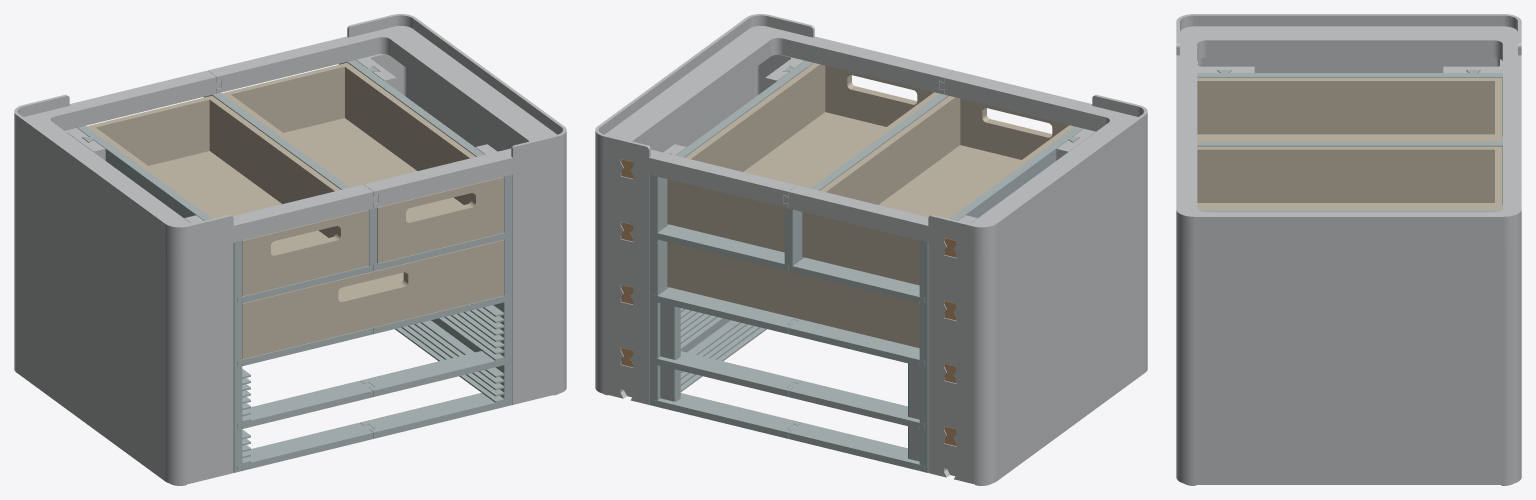
The model's file is stacknest-no-ht.glb.
The picture shows the model from 3 angles, left to right: view 1: azimuth 30°, elevation 25°; view 2: azimuth 150°, elevation 25°; view 3: azimuth 270°, elevation 25°; orthographic projection. The views are drawn at different scales.
Visible parts, largest first — view 1: 2-drawer-layer__drawer_2, 2-drawer-layer__drawer_1, device-top__top_2, device-top__top_1, 1-drawer-layer__drawer_half_1, 2-drawer-layer__end_left_1, 1-drawer-layer__end_left_1, 8-slot-plate-layer__end_left, 5-slot-plate-layer__end_left, 2-drawer-layer__end_right_1, 8-slot-plate-layer__end_right, 1-drawer-layer__end_right_1 (+17 smaller); view 2: 2-drawer-layer__drawer_2, 2-drawer-layer__drawer_1, device-top__top_2, device-top__top_1, 2-drawer-layer__end_left_1, 1-drawer-layer__end_left_1, 8-slot-plate-layer__end_left, 1-drawer-layer__drawer_half_2, 5-slot-plate-layer__end_left, 2-drawer-layer__end_right_1, 8-slot-plate-layer__end_right, 1-drawer-layer__end_right_1 (+18 smaller); view 3: 1-drawer-layer__end_right_1, 2-drawer-layer__end_right_1, 8-slot-plate-layer__end_right, 2-drawer-layer__drawer_2, 2-drawer-layer__drawer_1, device-top__top_1, 5-slot-plate-layer__end_right, device-top__top_2, 2-drawer-layer__end_left_1, 2-drawer-layer__divider_1, 2-drawer-layer__side_left, 2-drawer-layer__side_right.
Boxes of the visible parts, left/top/right/bottom form: 2-drawer-layer__drawer_2: left=221, top=62, right=503, bottom=263; 2-drawer-layer__drawer_1: left=86, top=95, right=368, bottom=296; device-top__top_2: left=208, top=14, right=566, bottom=208; device-top__top_1: left=14, top=70, right=378, bottom=254; 1-drawer-layer__drawer_half_1: left=242, top=239, right=503, bottom=359; 2-drawer-layer__end_left_1: left=14, top=128, right=233, bottom=317; 1-drawer-layer__end_left_1: left=14, top=203, right=233, bottom=380; 8-slot-plate-layer__end_left: left=14, top=265, right=233, bottom=442; 5-slot-plate-layer__end_left: left=14, top=328, right=233, bottom=485; 2-drawer-layer__end_right_1: left=356, top=54, right=566, bottom=237; 8-slot-plate-layer__end_right: left=512, top=284, right=566, bottom=362; 1-drawer-layer__end_right_1: left=512, top=221, right=566, bottom=299; 2-drawer-layer__drawer_2: left=667, top=63, right=939, bottom=252; 2-drawer-layer__drawer_1: left=802, top=96, right=1074, bottom=285; device-top__top_2: left=595, top=14, right=953, bottom=208; device-top__top_1: left=783, top=70, right=1147, bottom=254; 2-drawer-layer__end_left_1: left=928, top=129, right=1147, bottom=317; 1-drawer-layer__end_left_1: left=928, top=203, right=1147, bottom=380; 8-slot-plate-layer__end_left: left=928, top=265, right=1147, bottom=442; 1-drawer-layer__drawer_half_2: left=667, top=242, right=919, bottom=348; 5-slot-plate-layer__end_left: left=928, top=328, right=1147, bottom=485; 2-drawer-layer__end_right_1: left=595, top=54, right=804, bottom=237; 8-slot-plate-layer__end_right: left=595, top=284, right=649, bottom=362; 1-drawer-layer__end_right_1: left=595, top=221, right=649, bottom=299; 1-drawer-layer__end_right_1: left=1176, top=304, right=1521, bottom=375; 2-drawer-layer__end_right_1: left=1176, top=238, right=1521, bottom=310; 8-slot-plate-layer__end_right: left=1176, top=369, right=1521, bottom=441; 2-drawer-layer__drawer_2: left=1197, top=146, right=1502, bottom=210; 2-drawer-layer__drawer_1: left=1197, top=78, right=1502, bottom=141; device-top__top_1: left=1176, top=14, right=1521, bottom=126; 5-slot-plate-layer__end_right: left=1176, top=435, right=1521, bottom=485; device-top__top_2: left=1176, top=126, right=1521, bottom=245; 2-drawer-layer__end_left_1: left=1197, top=58, right=1502, bottom=72; 2-drawer-layer__divider_1: left=1197, top=141, right=1502, bottom=204; 2-drawer-layer__side_left: left=1197, top=70, right=1502, bottom=135; 2-drawer-layer__side_right: left=1199, top=210, right=1500, bottom=212.
Size of the model in its own units: 0.399 by 0.249 by 0.287.
